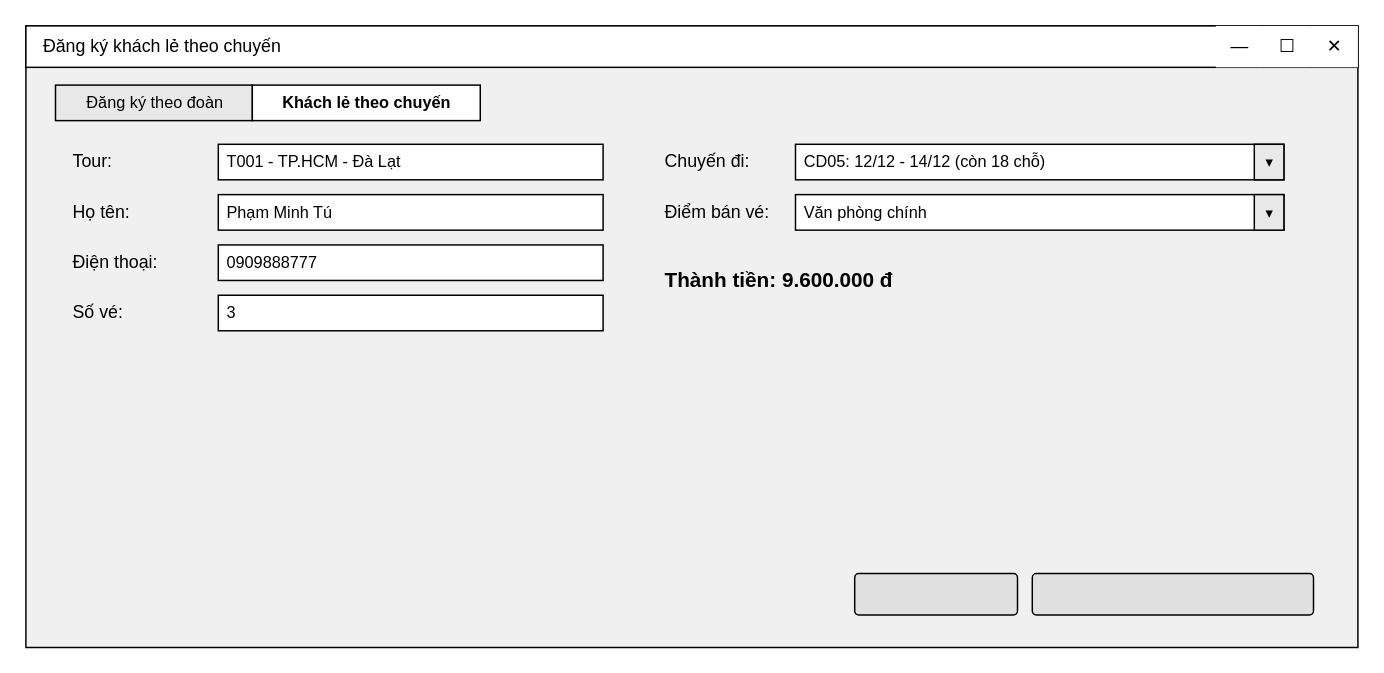
Some shapes in this 1384 by 673 pixel diagram are drawn without their labels. The centre of each missing label's shape, as x and y in pixels:
Nhập lại: (935,593)
Thanh toán & xuất vé: (1172,593)
